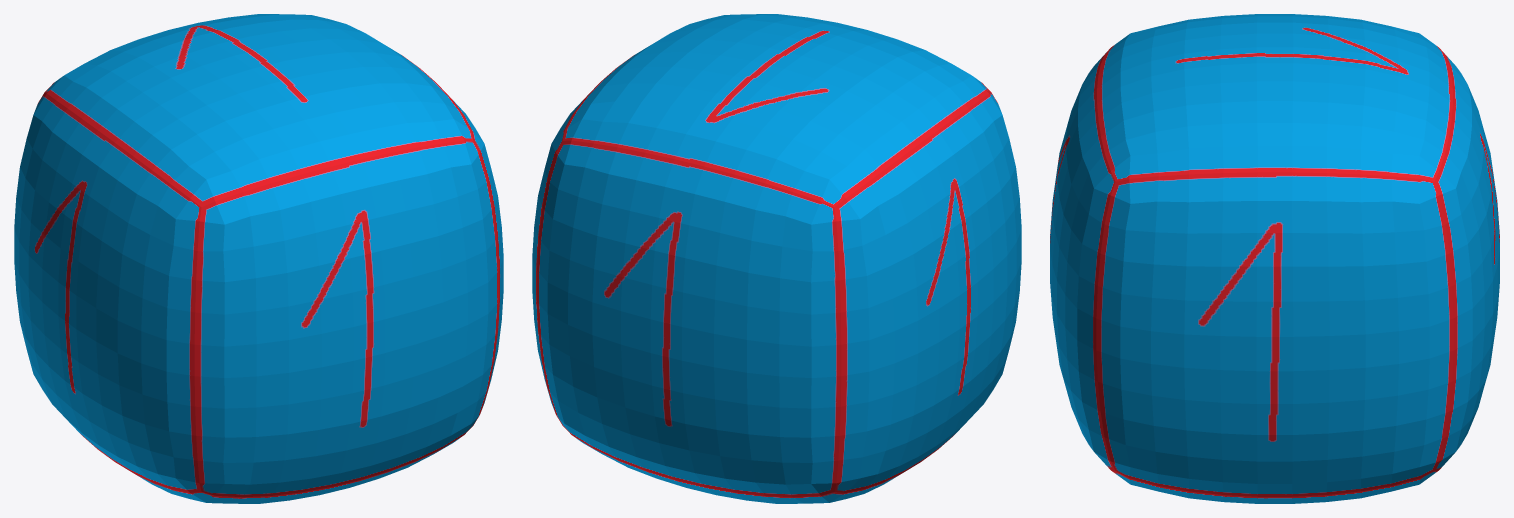
File: SimpleCube1smoothed.fbx
3 renders of one model, left to right at view 1: azimuth 30°, elevation 25°; view 2: azimuth 150°, elevation 25°; view 3: azimuth 270°, elevation 25°, orthographic.
Visible parts, largest first — view 1: Cube; view 2: Cube; view 3: Cube.
Part boxes in pixels (x1=…): Cube: x1=14, y1=14, x2=503, y2=503; Cube: x1=532, y1=14, x2=1021, y2=503; Cube: x1=1050, y1=14, x2=1499, y2=503.
Size of the model in its own units: 505 by 505 by 505.
1 material, 1 textured.
